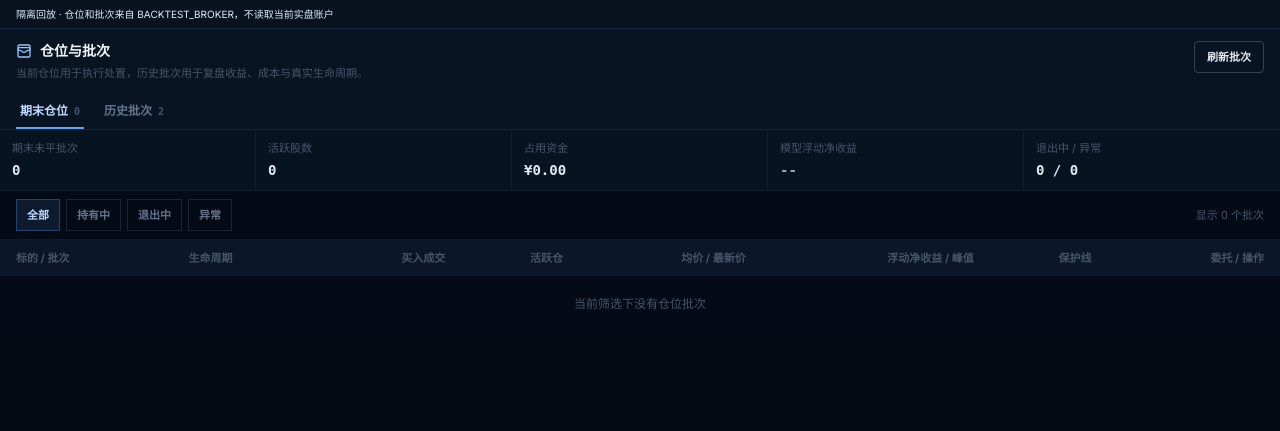
Test case: TTradePositionsView › keeps replay date filters on China calendar boundaries for UTC and naive facts
The width and height of the screenshot is (1280, 431).
Click the tab "历史批次2" at coordinates (134, 111), box [100,93,168,129]
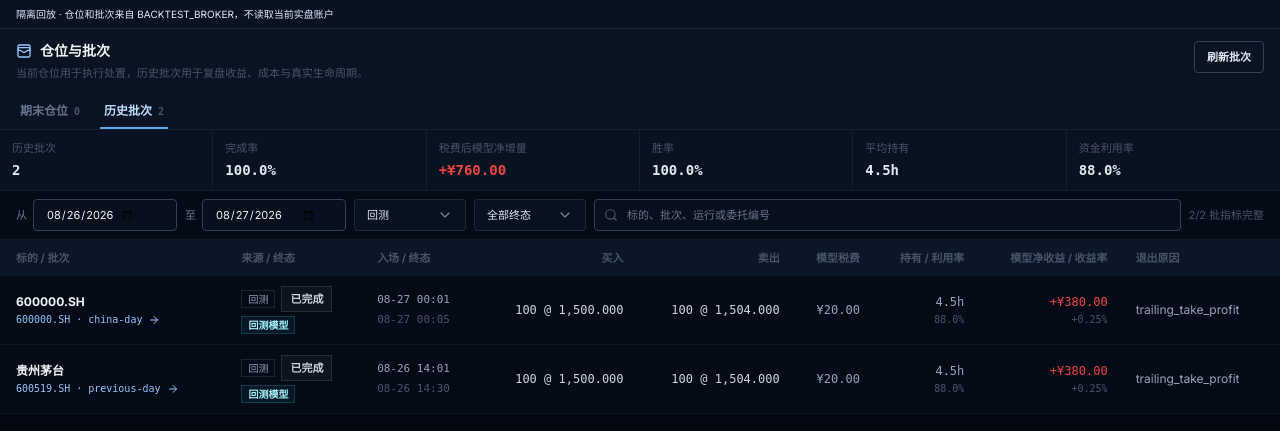
expect the date field named "历史结束日期" holds "2026-08-27": met, box [202,199,346,231]
Type "2026-08-27" into the date field named "历史开始日期" at coordinates (105, 215), box [33,199,177,231]
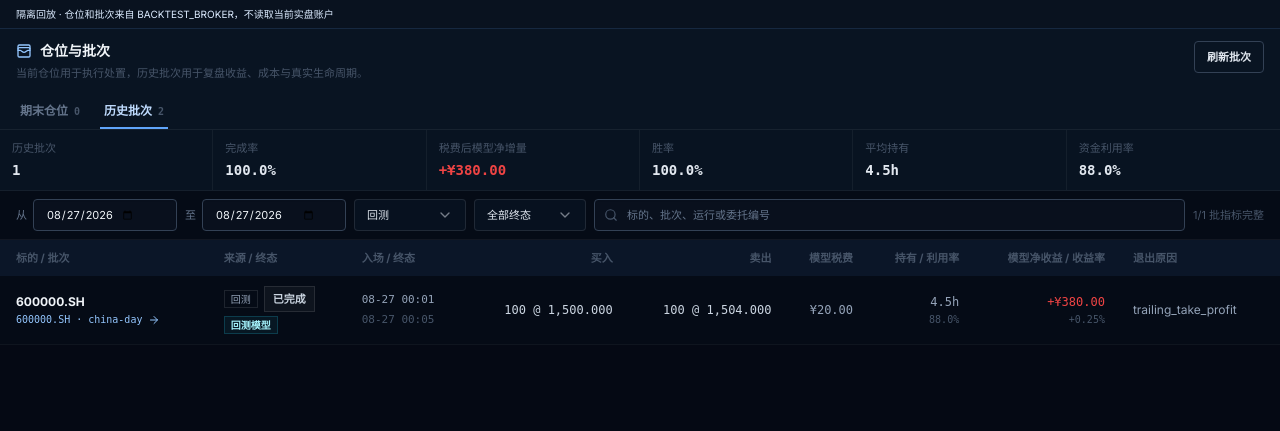
expect the text "600000.SH" is shown: met, box [16,294,85,308]
expect the text "08-27 00:05" is shown: met, box [362,313,434,326]
expect the button "贵州茅台" is gone: met
